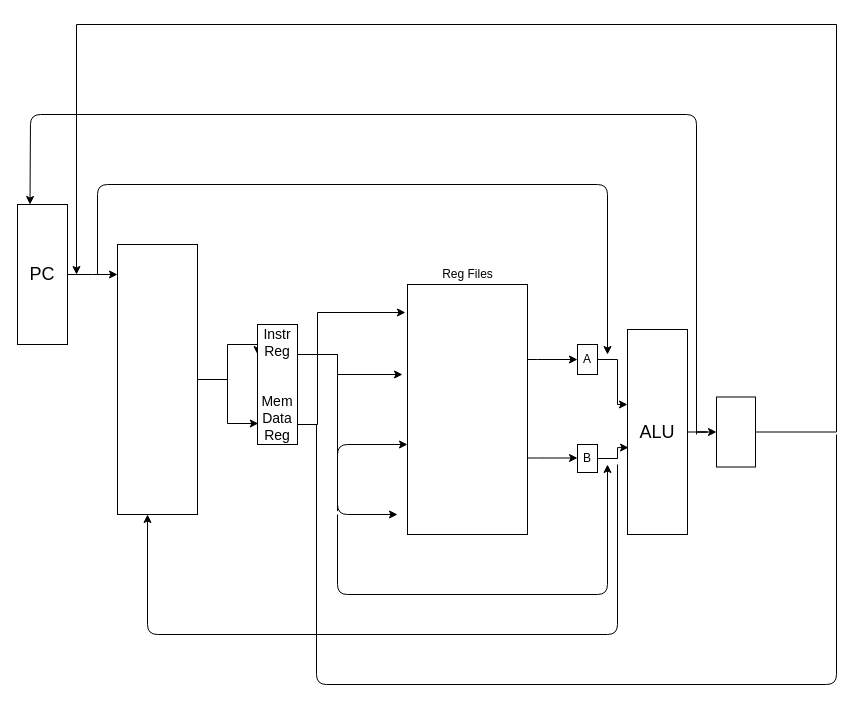
Some shapes in this 862 by 703 pixel diagram are drawn without their labels. The centre of each missing label's shape, as x and y in pixels:
Address Instr/Data-Memo Data: pixel 157 379
ALU OUT: pixel 736 431
Data Reg rs1 Reg rs2 Reg rd: pixel 467 409
